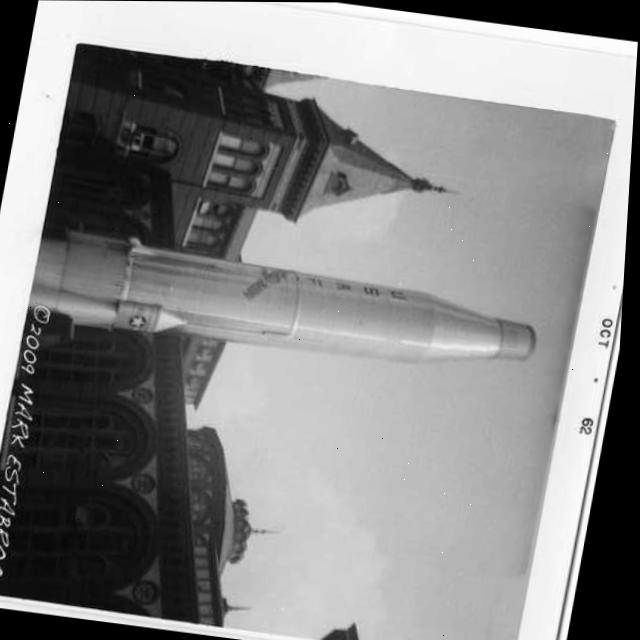missile: (20, 209, 555, 394)
